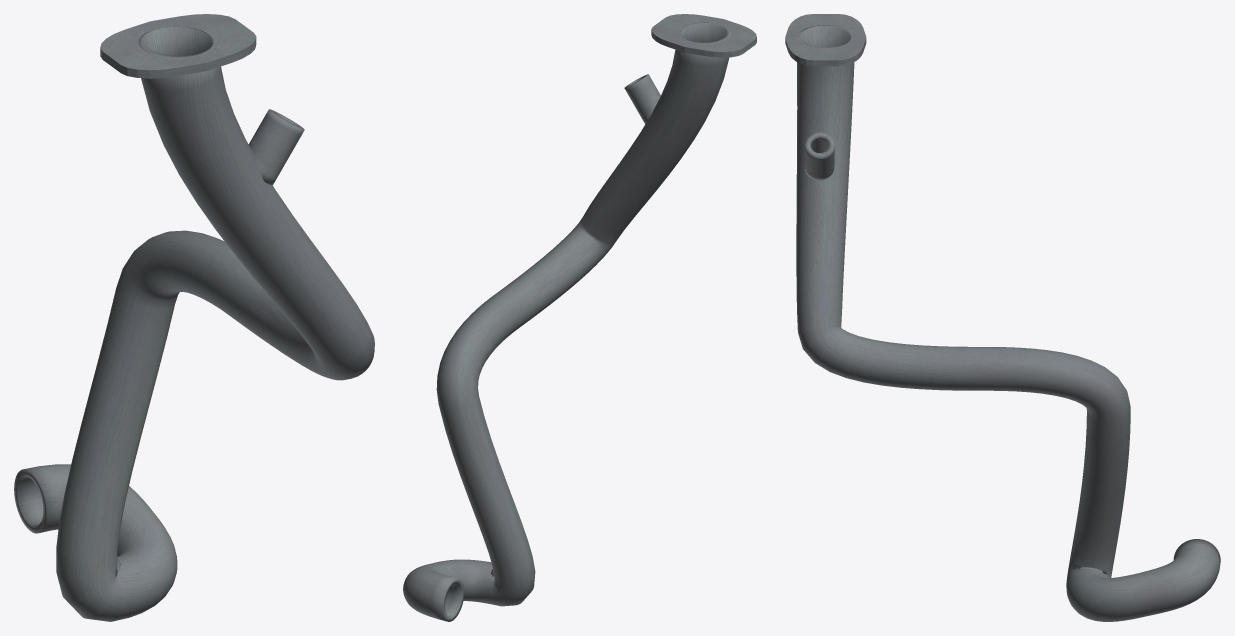
Rendered from TurboCharger_Big_Intercooler_Pipe.obj.
3 renders of one model, left to right at view 1: azimuth 30°, elevation 25°; view 2: azimuth 150°, elevation 25°; view 3: azimuth 270°, elevation 25°, orthographic. The views are drawn at different scales.
Visible parts, largest first — view 1: TurboCharger_Big_Intercooler_Pipe_BezierCurve.010, Connector3.001_Cube.006; view 2: TurboCharger_Big_Intercooler_Pipe_BezierCurve.010, Connector3.001_Cube.006; view 3: TurboCharger_Big_Intercooler_Pipe_BezierCurve.010, Connector3.001_Cube.006.
Boxes of the visible parts, x1,y1,x2,y2 form: TurboCharger_Big_Intercooler_Pipe_BezierCurve.010: (14,27,374,621); Connector3.001_Cube.006: (100,14,256,78); TurboCharger_Big_Intercooler_Pipe_BezierCurve.010: (403,23,730,621); Connector3.001_Cube.006: (651,14,756,57); TurboCharger_Big_Intercooler_Pipe_BezierCurve.010: (796,25,1220,621); Connector3.001_Cube.006: (785,14,866,66).
Bounding box in the file's own units: 0.2064 × 0.5326 × 0.397.
